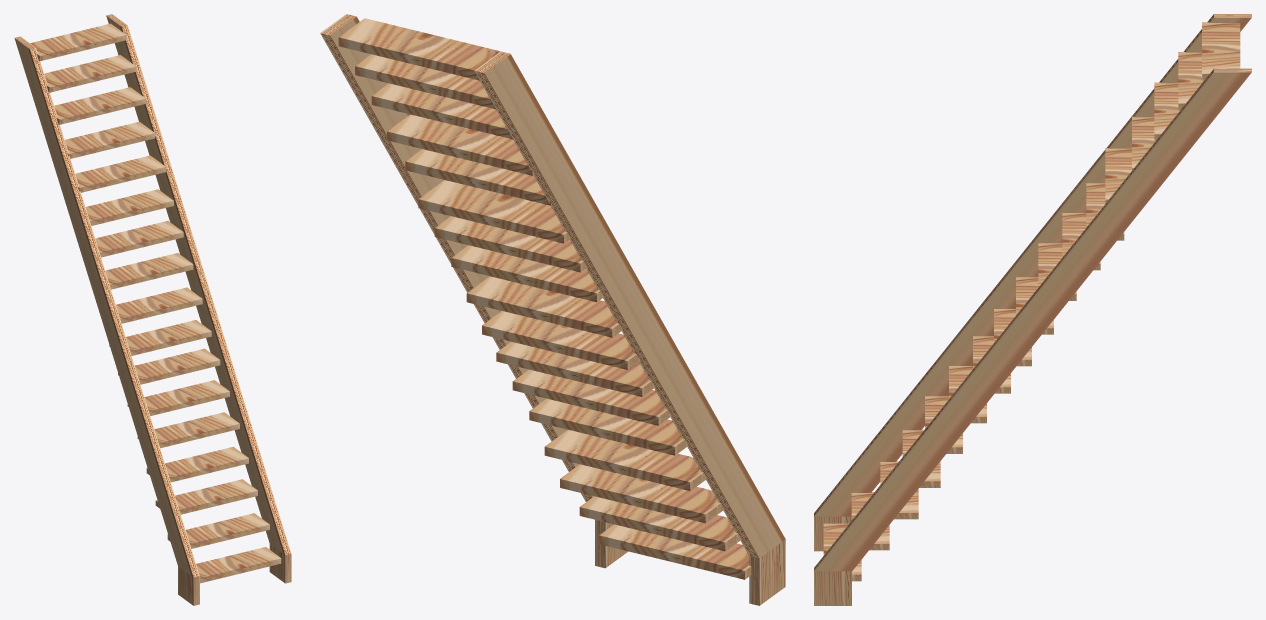
The model's file is David_stairs.fbx.
3 renders of one model, left to right at view 1: azimuth 30°, elevation 25°; view 2: azimuth 150°, elevation 25°; view 3: azimuth 270°, elevation 25°, orthographic. The views are drawn at different scales.
Parts seen in each view (by area): view 1: pCube79; view 2: pCube79; view 3: pCube79.
Part boxes in pixels (left/top/right/bottom): pCube79: left=14, top=14, right=291, bottom=605; pCube79: left=320, top=14, right=785, bottom=605; pCube79: left=814, top=14, right=1251, bottom=605.
Bounding box in the file's own units: 3.63 × 15.46 × 11.49.
Materials: 1 (1 with a texture image).
